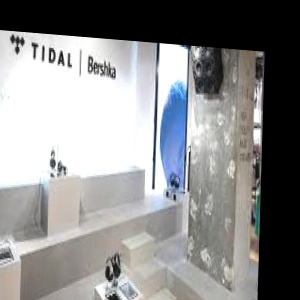bershka: (71, 43, 168, 65)
